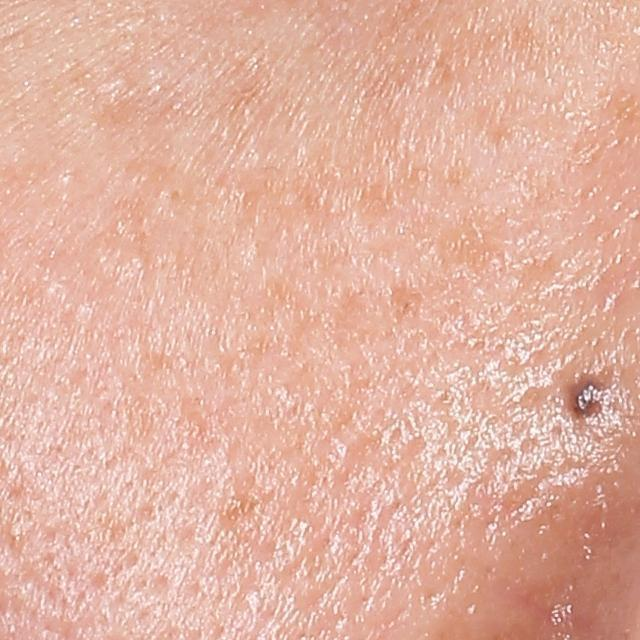melasma: (382, 286, 424, 322)
nevus: (569, 376, 607, 420)
